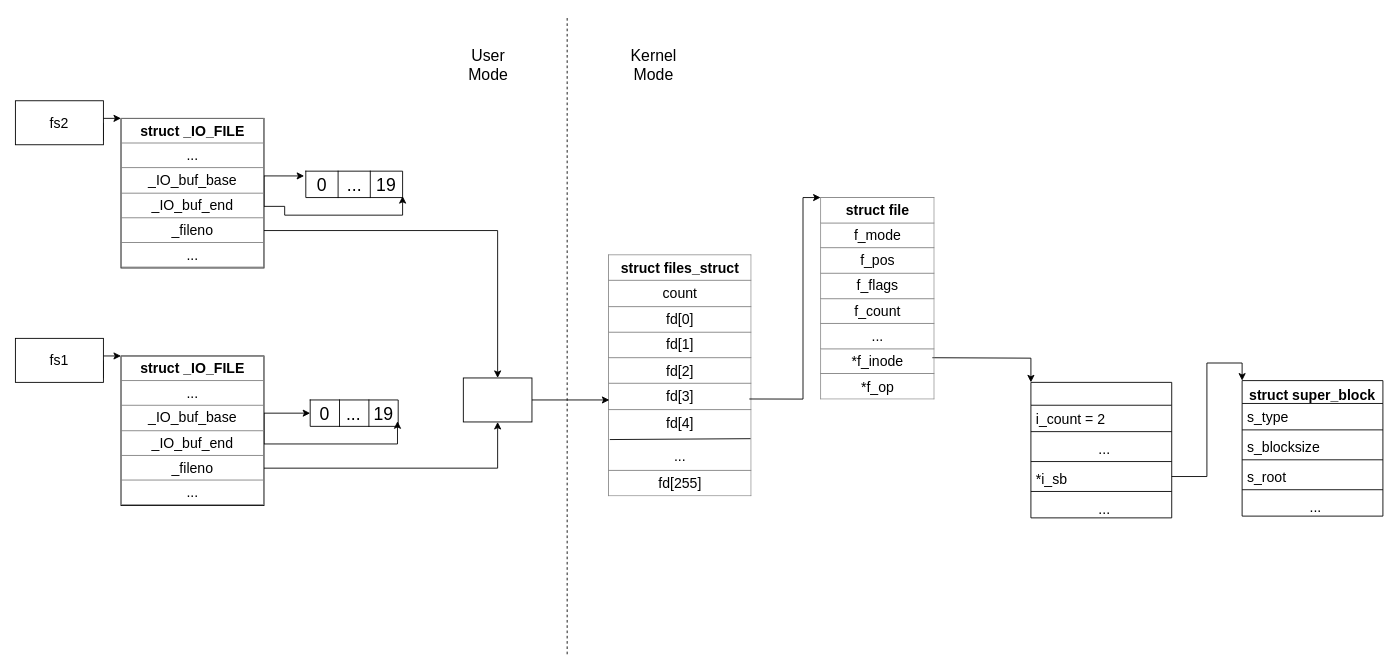
This 1398x671 diagram has some shape labels left out. Each missing label, with the box of its shape:
fd: (462, 377, 532, 422)
struct inode: (1030, 381, 1172, 518)
